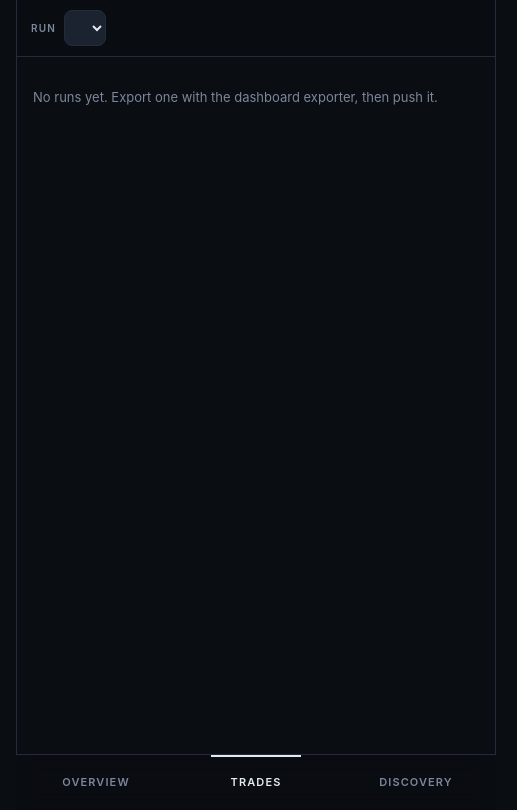
Scenario: App shell › shows a selected discovery report even when there are no trade-review runs
The image size is (517, 810).
Click the tab "Discovery".
click(416, 782)  # box [336, 755, 496, 809]
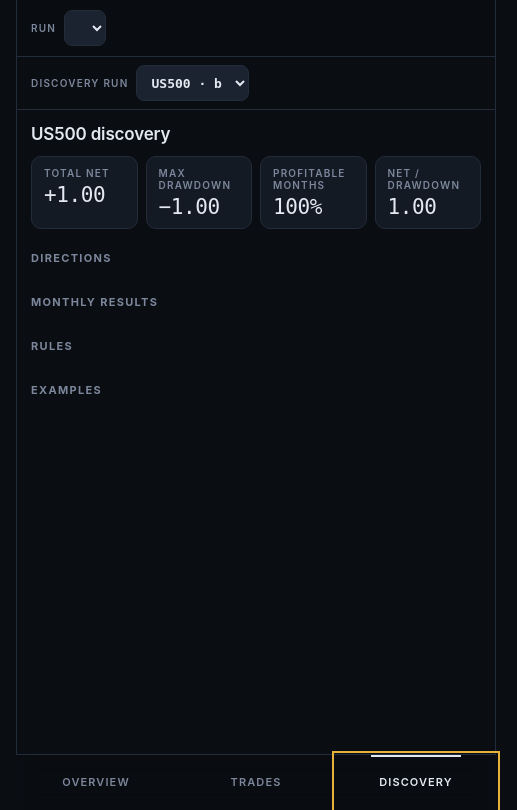
expect the text "+1.00" is shown: met, box [44, 183, 105, 207]
